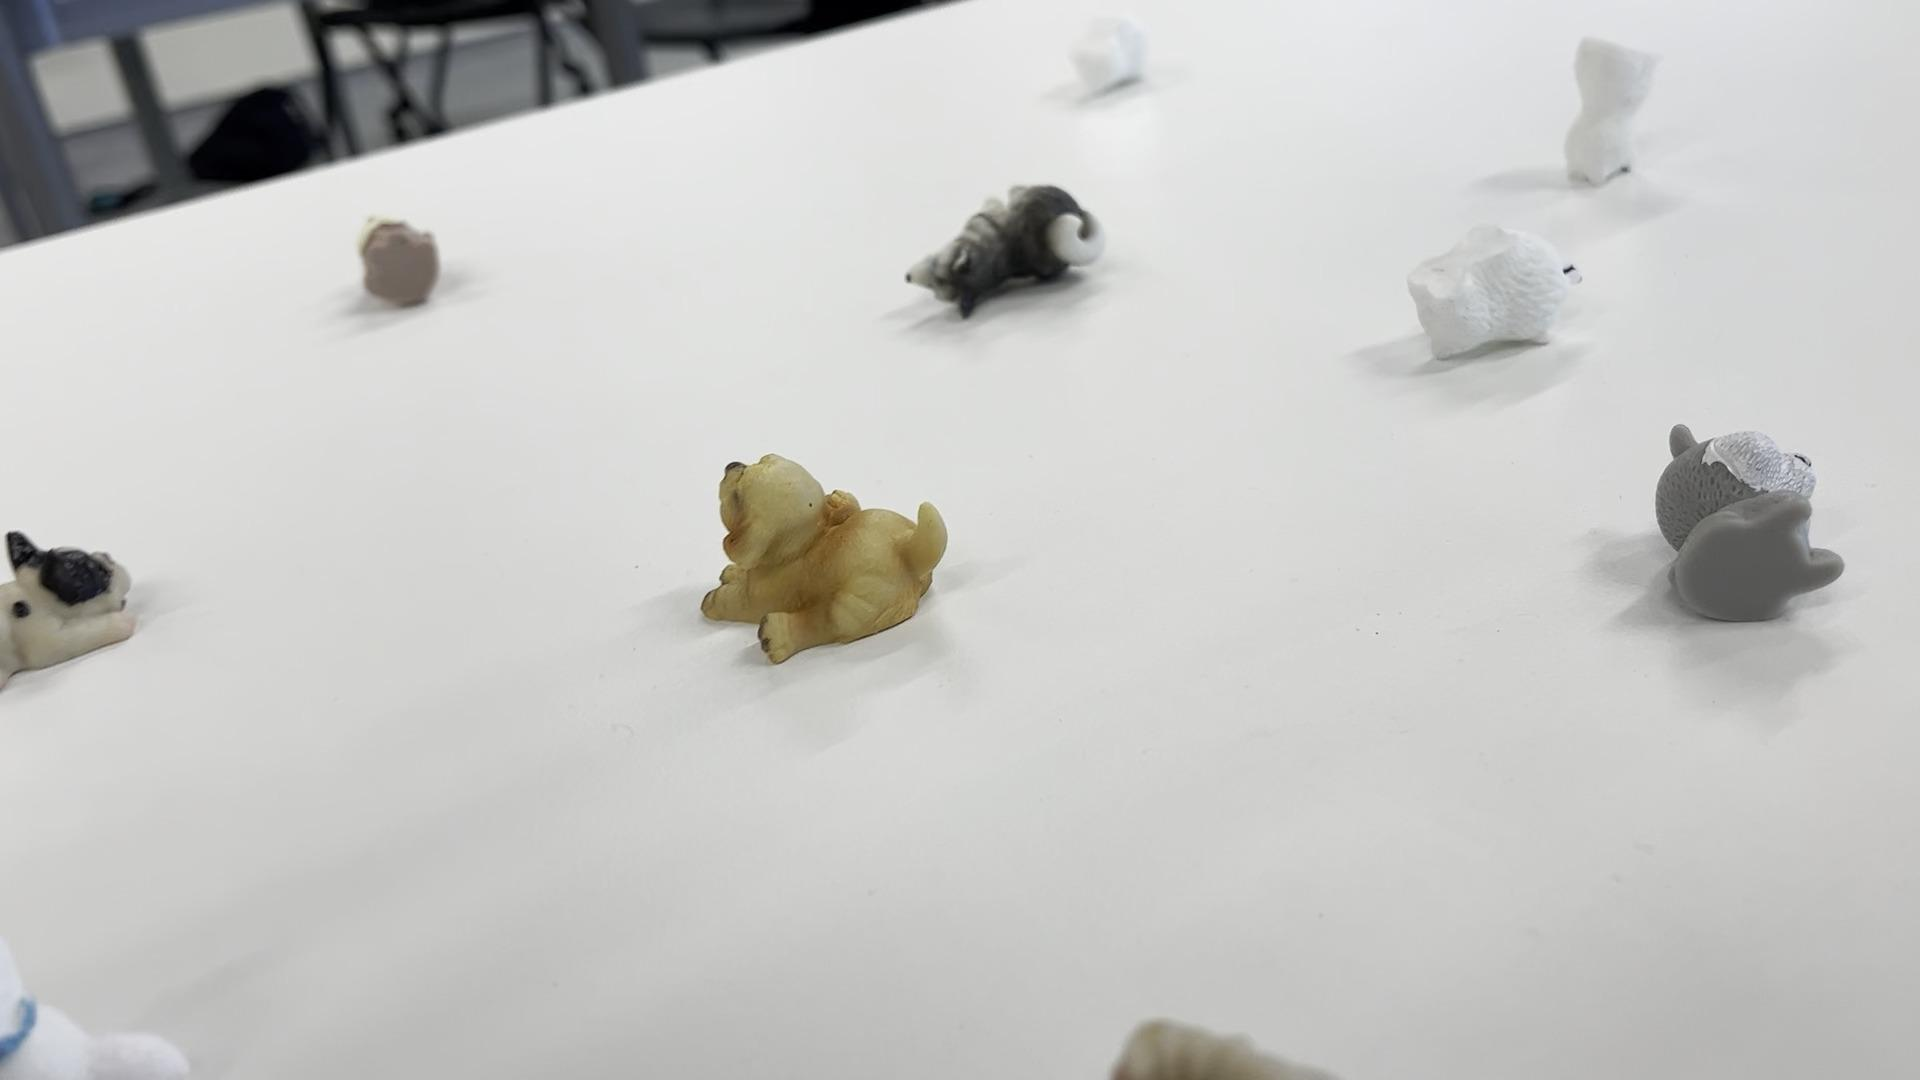pet: (698, 442, 963, 676), (1642, 409, 1849, 628), (1402, 212, 1589, 380), (915, 179, 1118, 328), (0, 517, 148, 679), (1568, 29, 1669, 193), (332, 202, 451, 315)
